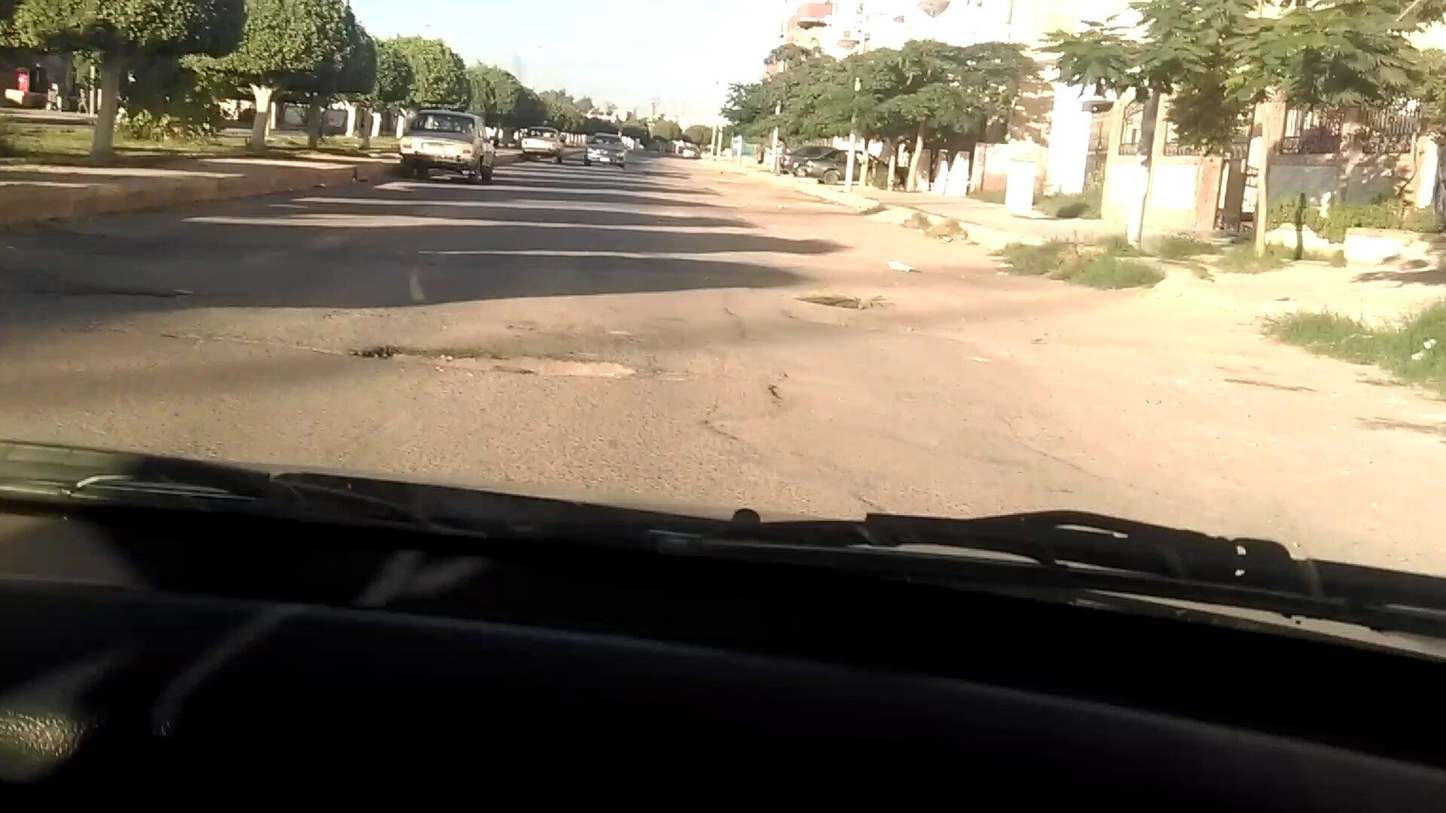Pothole: (341, 339, 689, 397), (47, 260, 209, 314), (796, 280, 913, 339)
